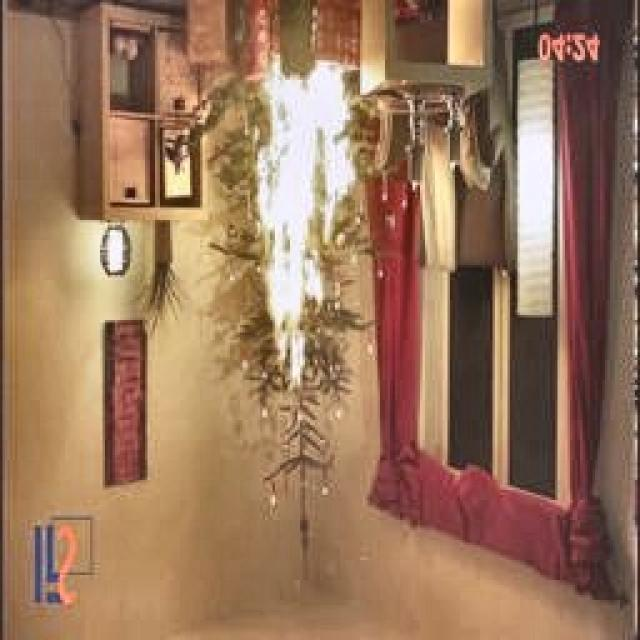fire: (226, 39, 386, 404)
